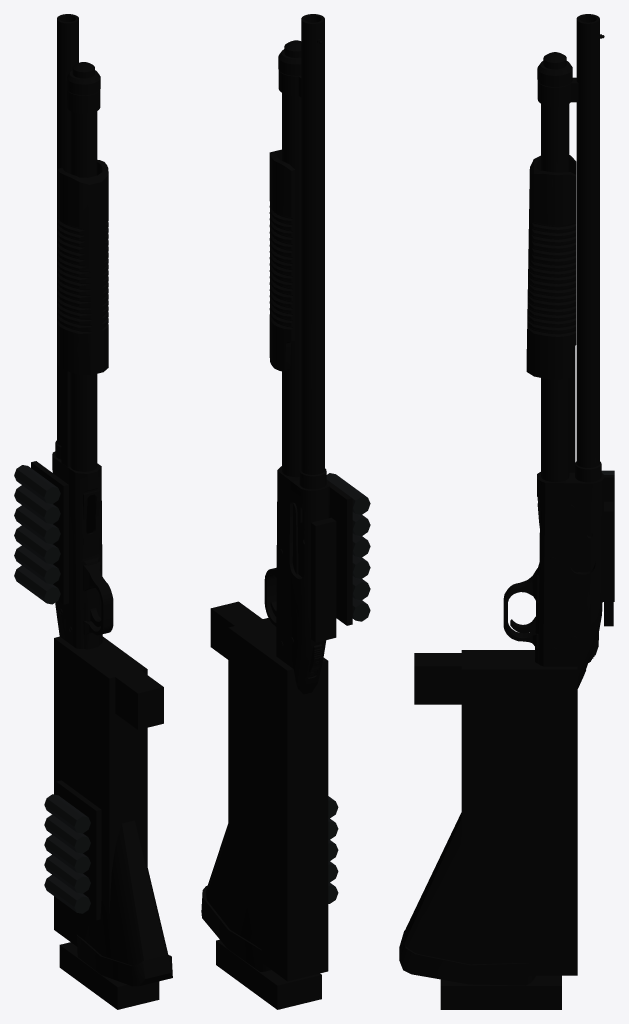
Rendered from M590__Mount_ScopeBase__RecoilPad_Rubber__ShellHolder_Butt__Sidesaddle_Shotgun__Stock_M590_PistolGrip.fbx.
The picture shows the model from 3 angles, left to right: view 1: azimuth 30°, elevation 25°; view 2: azimuth 210°, elevation 25°; view 3: azimuth 270°, elevation 25°; orthographic projection. The views are drawn at different scales.
Parts seen in each view (by area): view 1: asset_M590.001; view 2: asset_M590.001; view 3: asset_M590.001.
Boxes of the visible parts, box(x1,y1,x2,y2) form: asset_M590.001: box(14, 14, 172, 1009); asset_M590.001: box(201, 14, 370, 1009); asset_M590.001: box(399, 14, 614, 1009).
Size of the model in its own units: 0.0447 by 0.615 by 0.1224.
